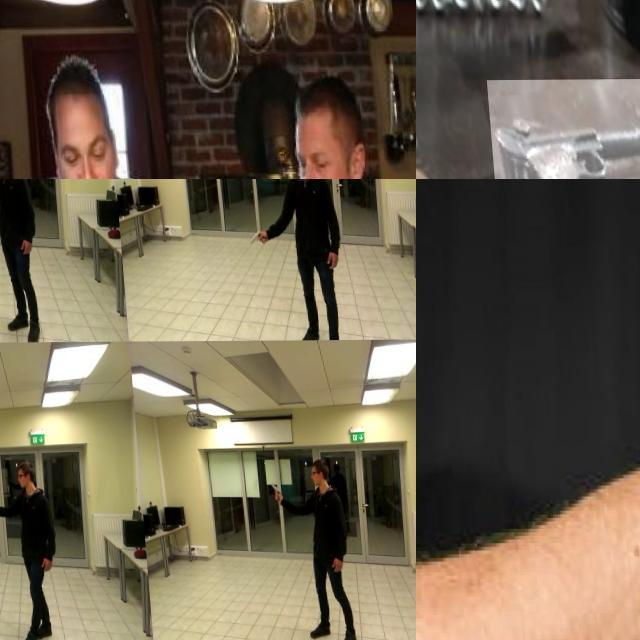gun-knife-thesis - v11 Yolov5 augmented: (483, 79, 640, 179), (240, 228, 262, 248), (262, 479, 272, 502), (0, 211, 9, 232), (0, 481, 8, 503)
